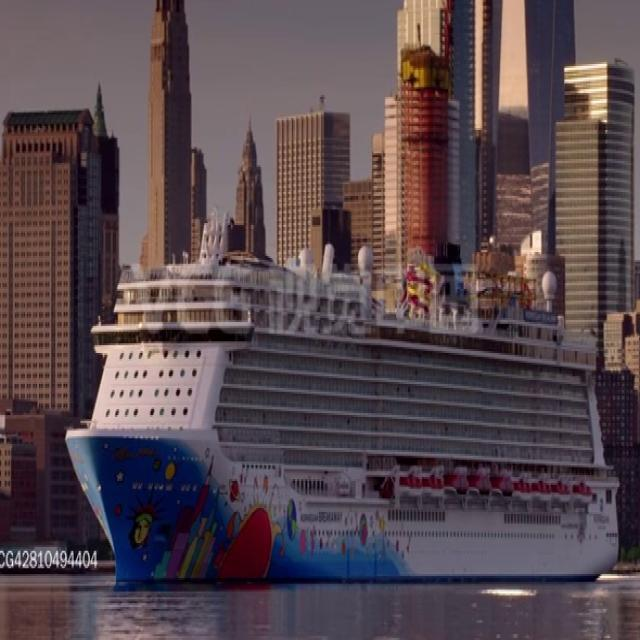passenger ship: (62, 229, 613, 582)
